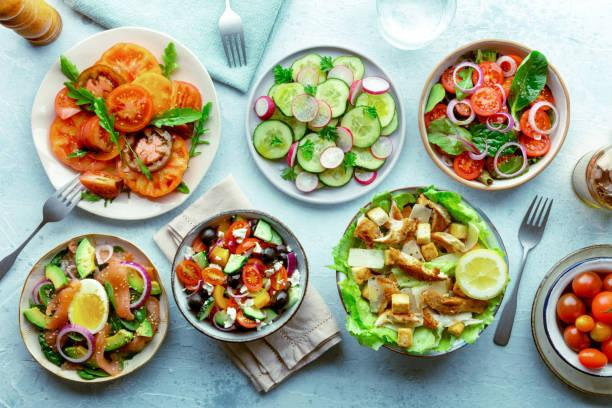Braised Crucian Carp: (35, 25, 221, 221), (331, 186, 503, 356), (244, 44, 401, 206), (418, 39, 570, 192), (18, 234, 167, 385), (170, 209, 305, 343)
